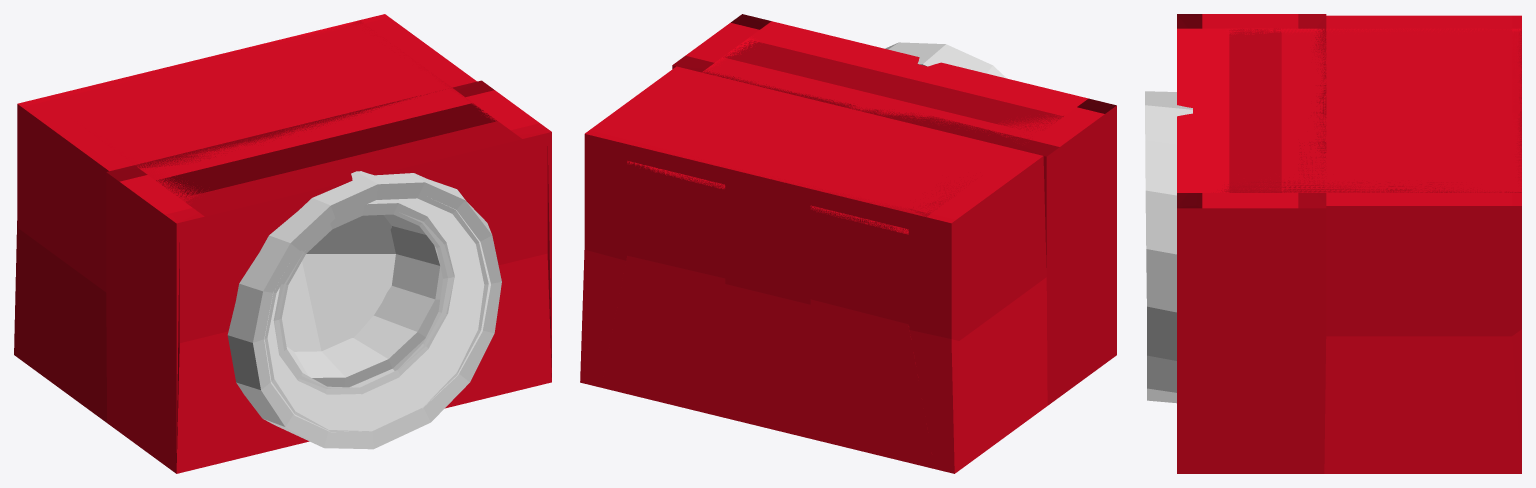
The model's file is MysteryArisesAgain.fbx.
3 renders of one model, left to right at view 1: azimuth 30°, elevation 25°; view 2: azimuth 150°, elevation 25°; view 3: azimuth 270°, elevation 25°, orthographic. The views are drawn at different scales.
Visible parts, largest first — view 1: robo copy.002; view 2: robo copy.002; view 3: robo copy.002.
Part boxes in pixels (x1,y1,x2,y2): robo copy.002: (14, 14, 551, 473); robo copy.002: (580, 14, 1116, 473); robo copy.002: (1145, 14, 1521, 473).
Size of the model in its own units: 35.43 by 23.89 by 29.04.
